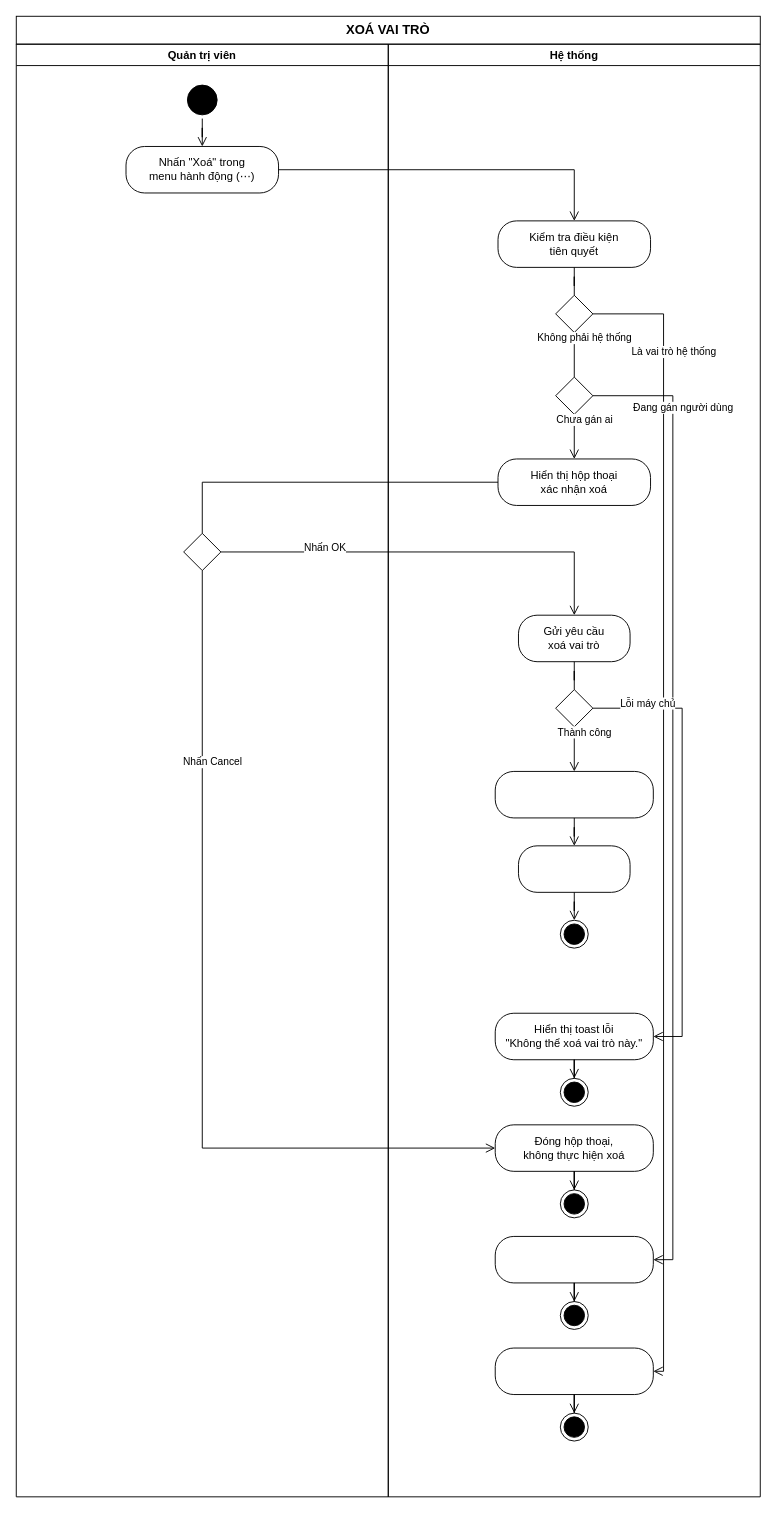
Some shapes in this 777 by 1513 pixel diagram are drawn without their labels. Each missing label, with the centre of its shape:
Hiển thị toast "Xoá vai trò thành công.": point 573,794
Hiển thị toast lỗi "Không thể xoá vai trò hệ thống.": point 573,1371
Hiển thị toast lỗi "Không thể xoá vai trò đang được gán cho người dùng.": point 573,1259
Làm mới danh sách: point 574,868
